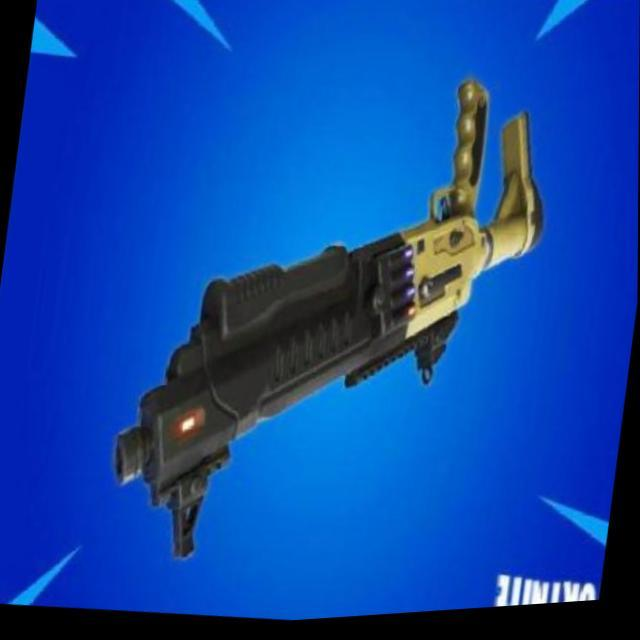weapon: (99, 39, 562, 604)
